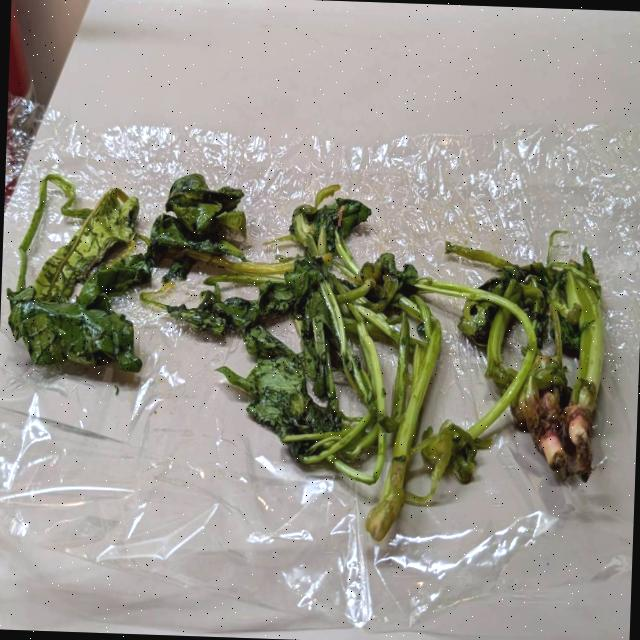rotten spinach: (2, 128, 628, 556), (12, 161, 614, 547), (184, 264, 496, 542), (454, 205, 618, 474), (11, 157, 174, 376), (269, 185, 437, 355), (150, 139, 292, 293)
